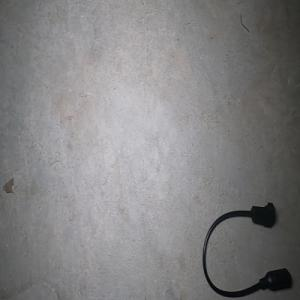Wire: (202, 202, 291, 297)
